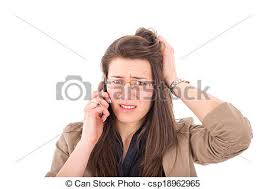phone: (98, 82, 106, 116)
talk: (82, 74, 154, 146)
